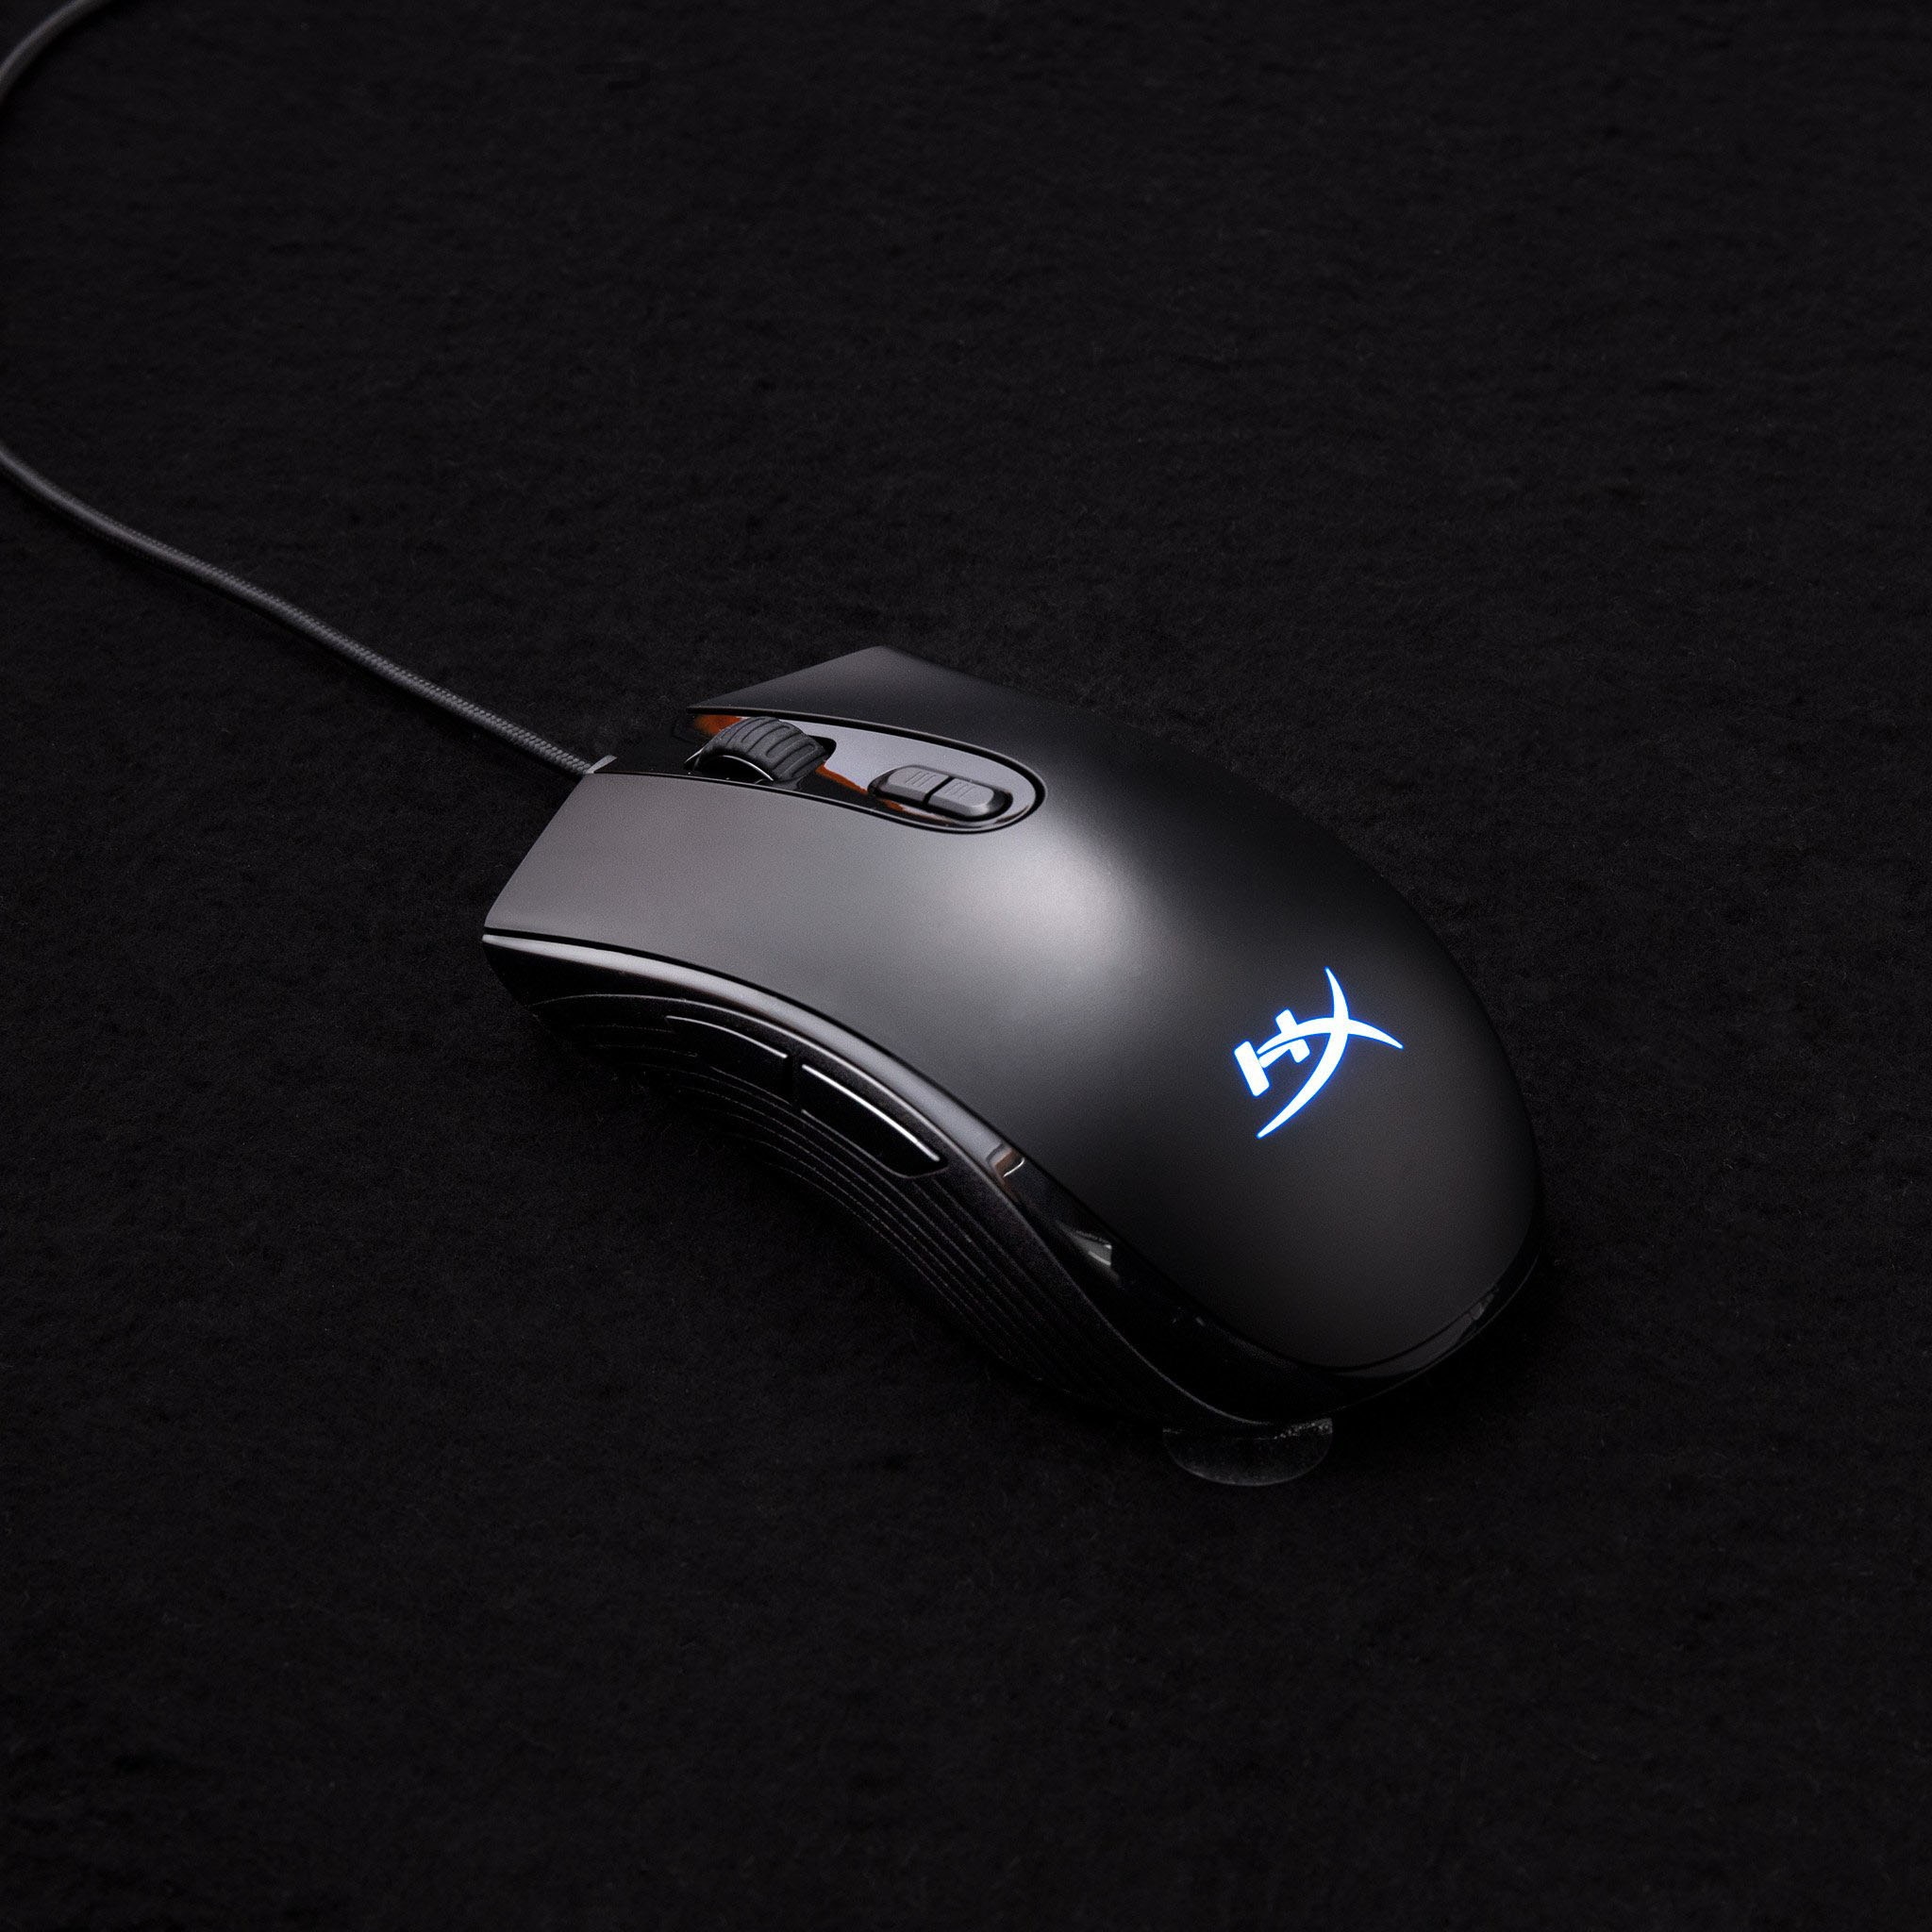mouse: (472, 474, 1557, 1530)
